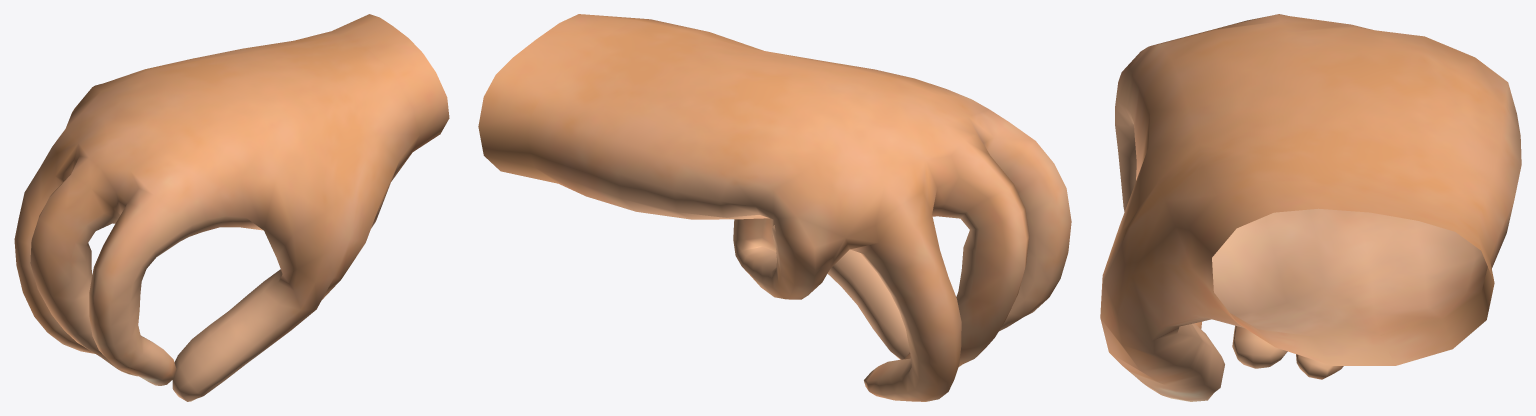
The model's file is H_thumb_3.fbx.
3 renders of one model, left to right at view 1: azimuth 30°, elevation 25°; view 2: azimuth 150°, elevation 25°; view 3: azimuth 270°, elevation 25°, orthographic. The views are drawn at different scales.
Parts seen in each view (by area): view 1: H_thumb_3; view 2: H_thumb_3; view 3: H_thumb_3.
Boxes of the visible parts, bbox=[...] form: H_thumb_3: bbox=[14, 14, 449, 401]; H_thumb_3: bbox=[478, 14, 1071, 401]; H_thumb_3: bbox=[1100, 14, 1521, 401].
Bounding box in the file's own units: 14.83 × 9.43 × 9.35.
Materials: 1 (1 with a texture image).
